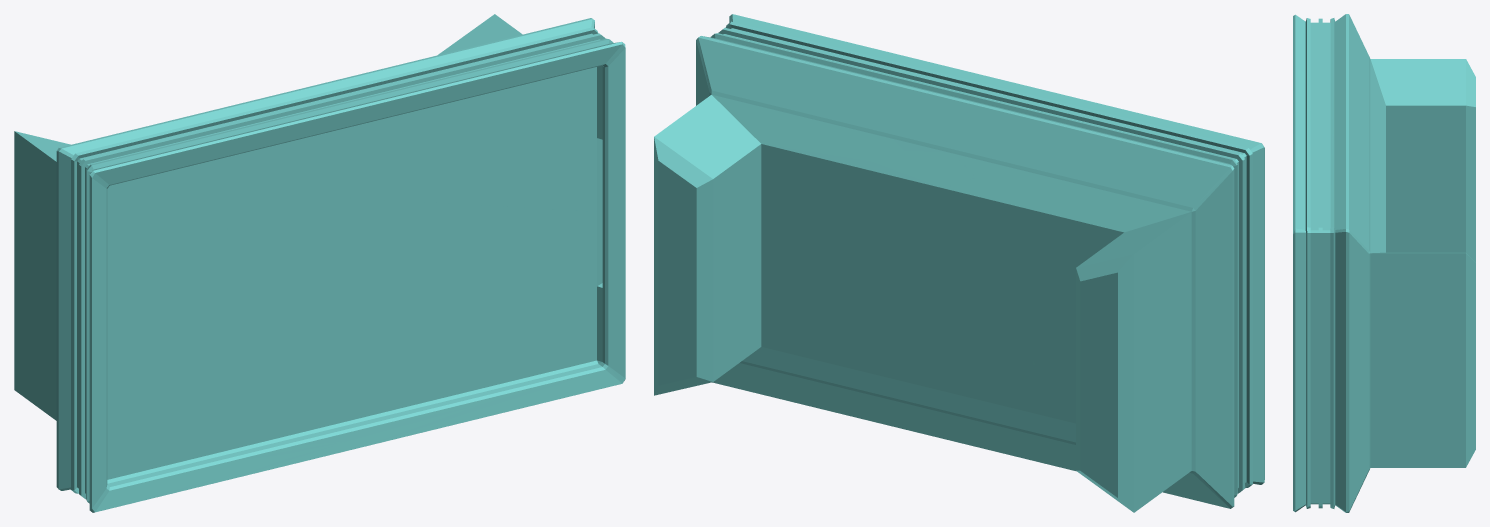
File: hockeyrink.glb
3 renders of one model, left to right at view 1: azimuth 30°, elevation 25°; view 2: azimuth 150°, elevation 25°; view 3: azimuth 270°, elevation 25°, orthographic. The views are drawn at different scales.
Visible parts, largest first — view 1: node_id4; view 2: node_id4; view 3: node_id4.
Part boxes in pixels (x1,y1,x2,y2): node_id4: (14,14,625,512); node_id4: (654,14,1264,512); node_id4: (1293,14,1475,512).
Size of the model in its own units: 0.512 by 0.3123 by 0.1821.
1 material, 1 textured.
